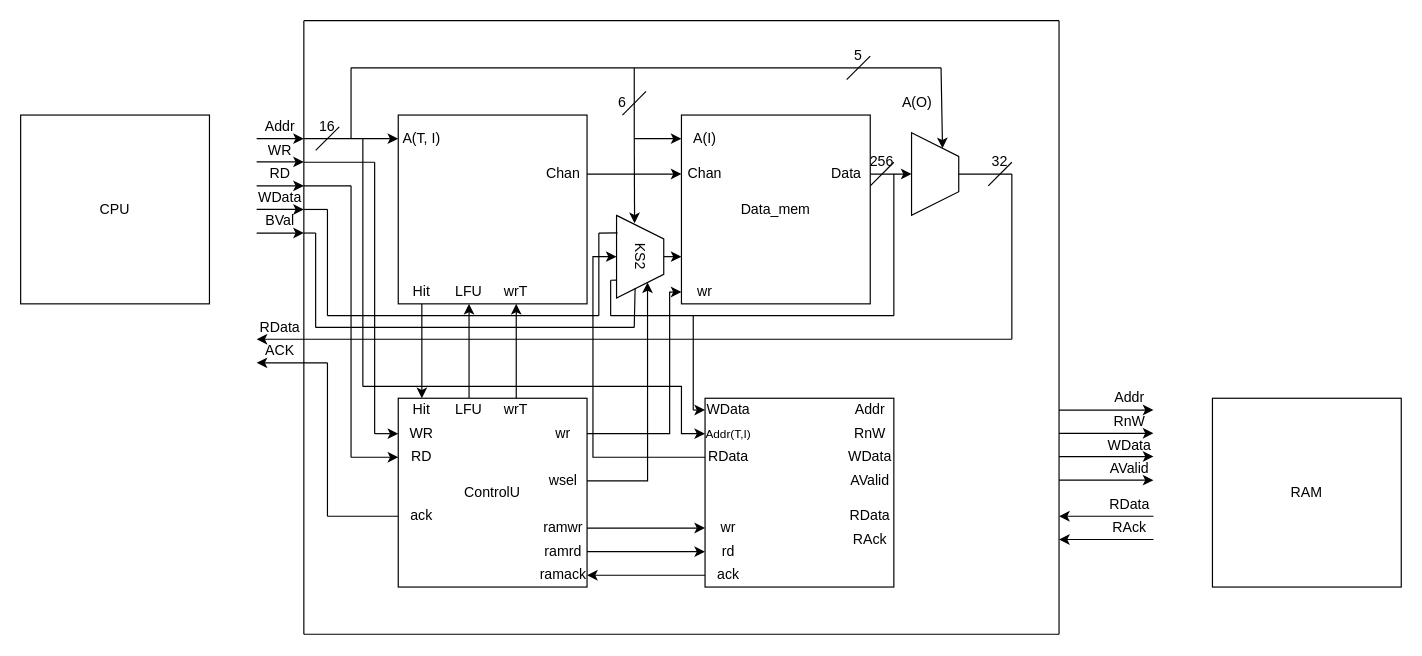
The diagram is 1422 pixels wide and 656 high, and some of its shapes have lost their labels. Here are the shapes that lost their labels. From the top down, the box of each, then its label:
(910, 132, 959, 215): KS1
(397, 114, 587, 304): Teg_mem
(704, 397, 894, 587): Ram If
